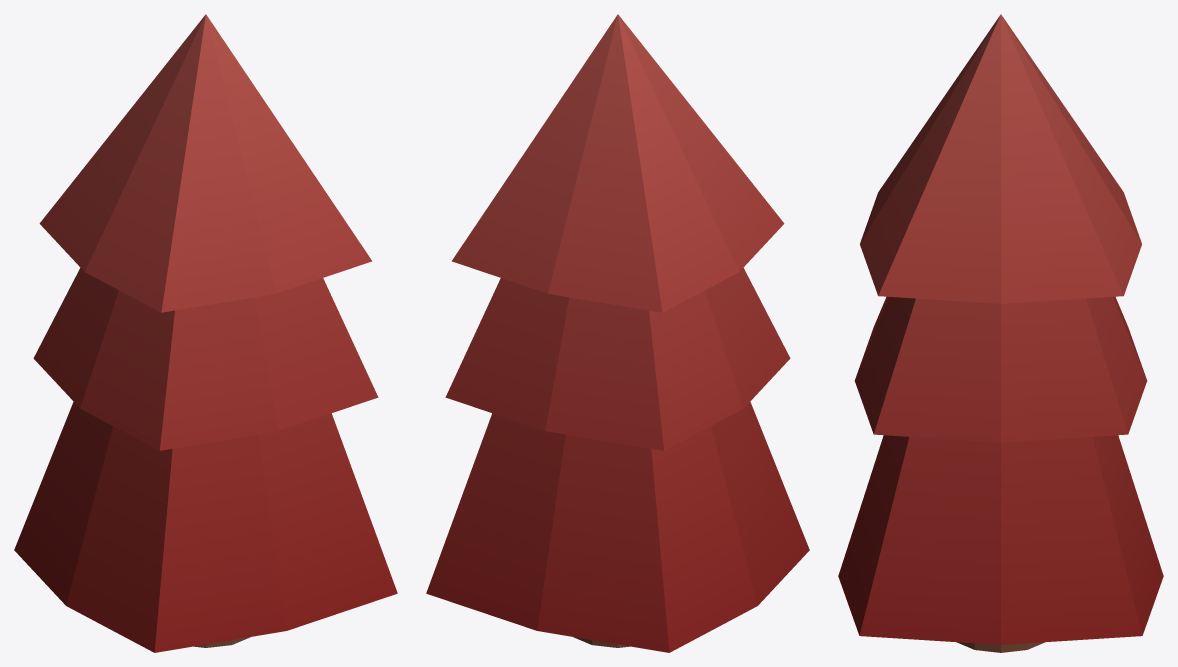
Rendered from Tree_23_gradient_red_vc.fbx.
3 views of the same model, side by side, from view 1: azimuth 30°, elevation 25°; view 2: azimuth 150°, elevation 25°; view 3: azimuth 270°, elevation 25° (orthographic).
Visible parts, largest first — view 1: Tree_23_gradient_red_vc; view 2: Tree_23_gradient_red_vc; view 3: Tree_23_gradient_red_vc.
Part boxes in pixels (x1=…): Tree_23_gradient_red_vc: x1=14, y1=14, x2=397, y2=652; Tree_23_gradient_red_vc: x1=426, y1=14, x2=809, y2=652; Tree_23_gradient_red_vc: x1=838, y1=14, x2=1163, y2=652.
Size of the model in its own units: 90.1 by 188 by 90.1.
